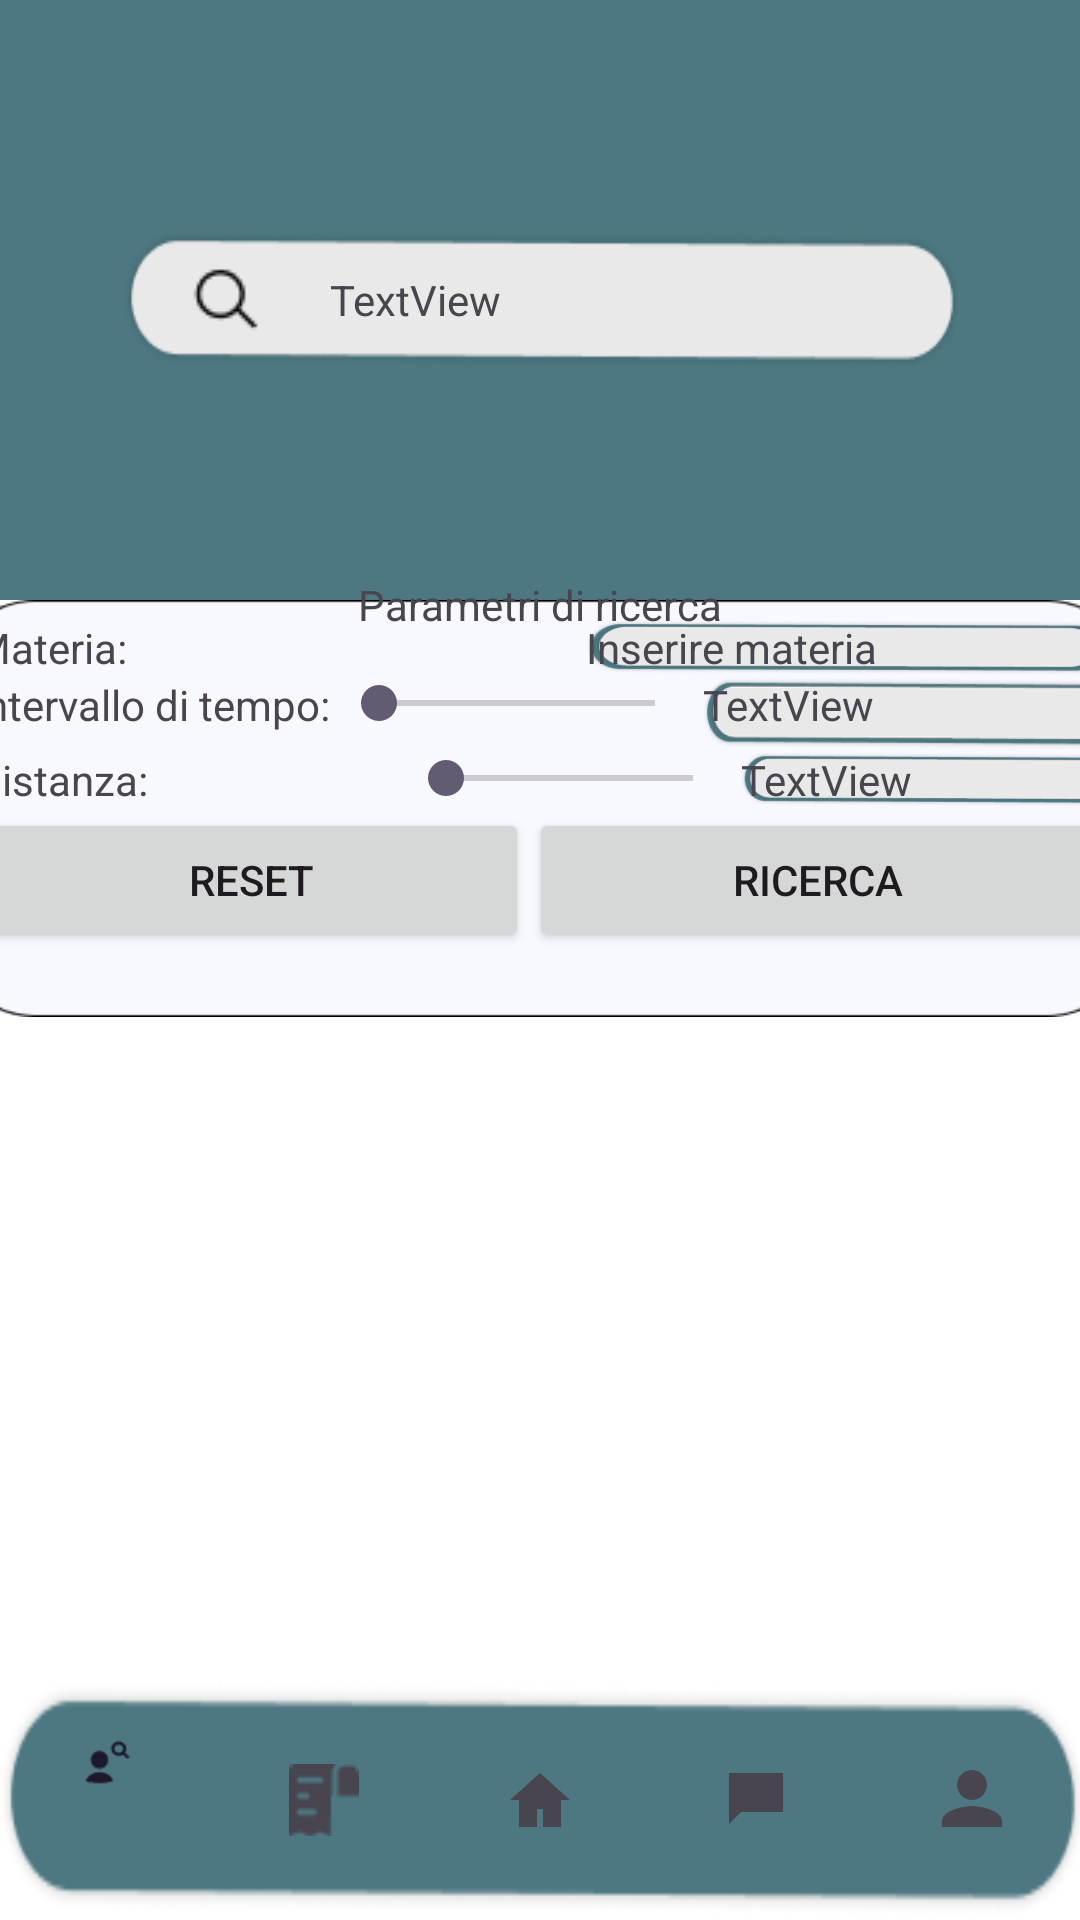

Screen size 1080*1920. Icon name, then its center in pixels as point (x, y):
search: point (230, 298)
